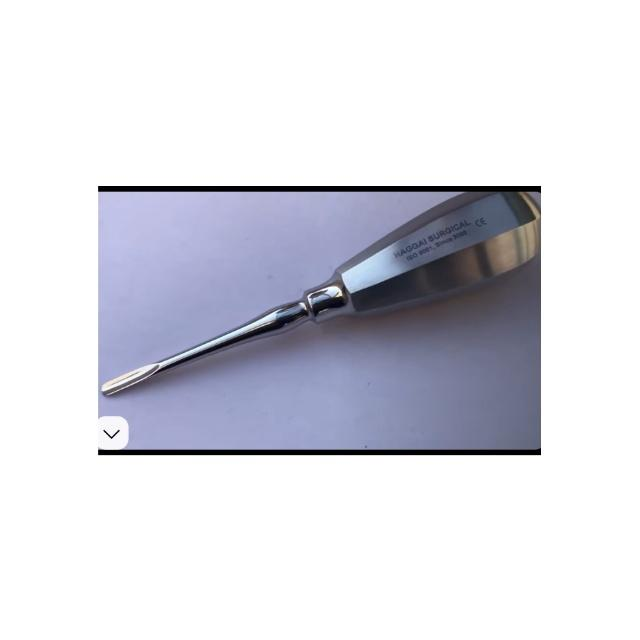botador: (102, 189, 541, 398)
